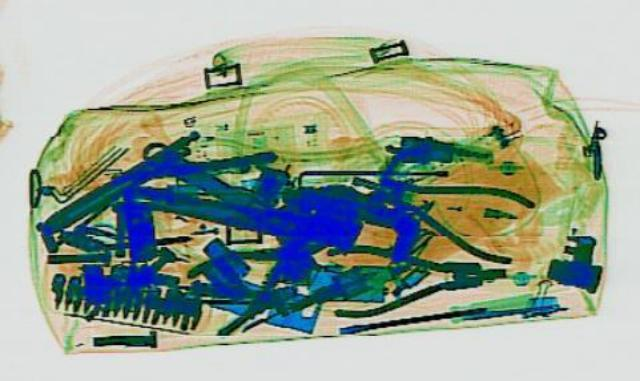Pliers: (318, 147, 566, 264), (136, 215, 348, 338), (322, 235, 512, 316)
Wrench: (114, 128, 353, 257)
